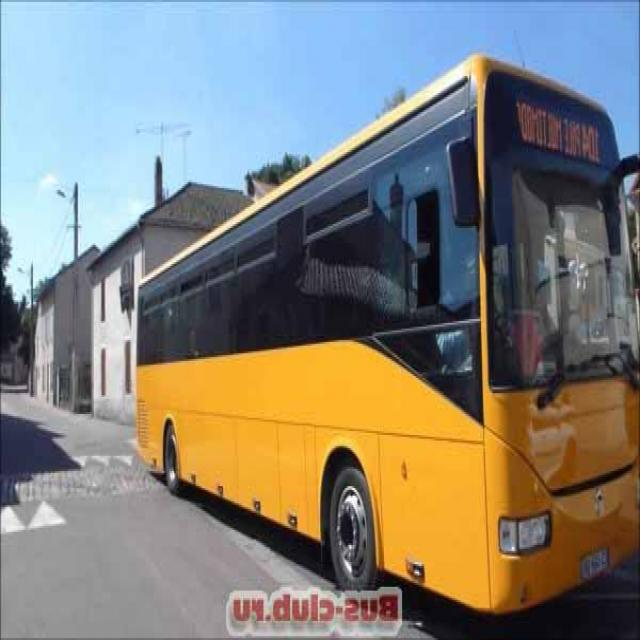bus: (132, 47, 640, 623)
